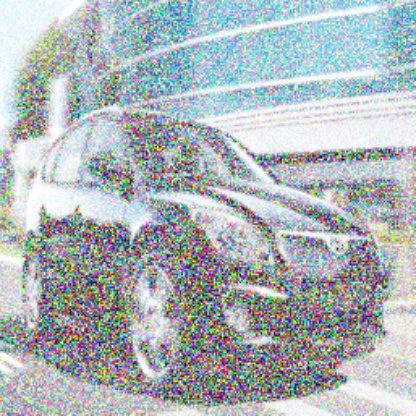Vehicle: (21, 108, 392, 401)
